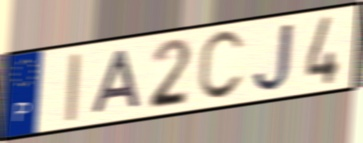2: (150, 36, 194, 110)
4: (305, 13, 341, 88)
A: (90, 46, 144, 117)
C: (195, 28, 247, 104)
I: (63, 50, 83, 125)
J: (250, 20, 297, 96)
